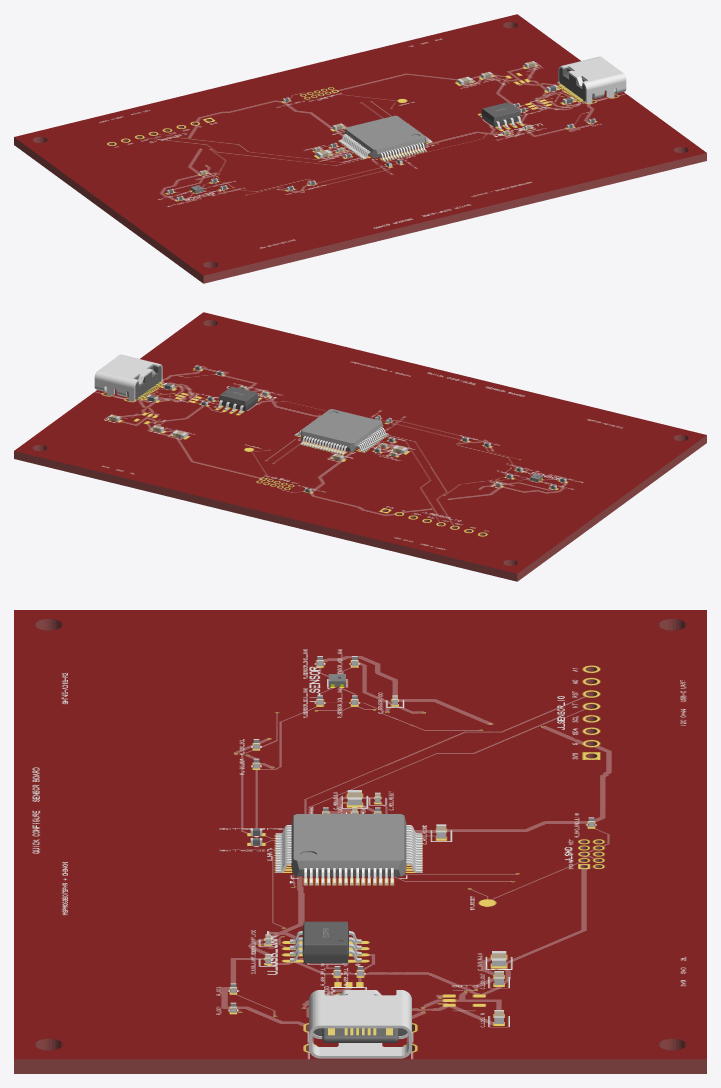
3 renders of one model, top to bottom at view 1: azimuth 30°, elevation 25°; view 2: azimuth 150°, elevation 25°; view 3: azimuth 270°, elevation 25°, orthographic. The views are drawn at different scales.
Parts seen in each view (by area): view 1: Box0, U_MAIN, J_USB, U_USB_UART; view 2: Box0, U_MAIN, J_USB, U_USB_UART; view 3: Box0, U_MAIN, J_USB, U_USB_UART.
Part boxes in pixels (left/top/right/bottom): Box0: left=14, top=14, right=706, bottom=283; U_MAIN: left=338, top=115, right=432, bottom=161; J_USB: left=558, top=56, right=626, bottom=103; U_USB_UART: left=480, top=102, right=522, bottom=129; Box0: left=14, top=312, right=706, bottom=581; U_MAIN: left=294, top=409, right=388, bottom=454; J_USB: left=94, top=354, right=162, bottom=401; U_USB_UART: left=217, top=386, right=259, bottom=413; Box0: left=14, top=610, right=706, bottom=1073; U_MAIN: left=275, top=814, right=422, bottom=885; J_USB: left=309, top=990, right=411, bottom=1058; U_USB_UART: left=290, top=921, right=361, bottom=963.
Bounding box in the file's own units: 92.04 × 4.65 × 60.
Materials: 21 (2 with a texture image).
